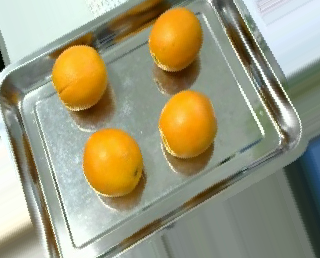Orange: (83, 127, 143, 196), (158, 89, 217, 158), (51, 45, 107, 111), (148, 6, 203, 72)
